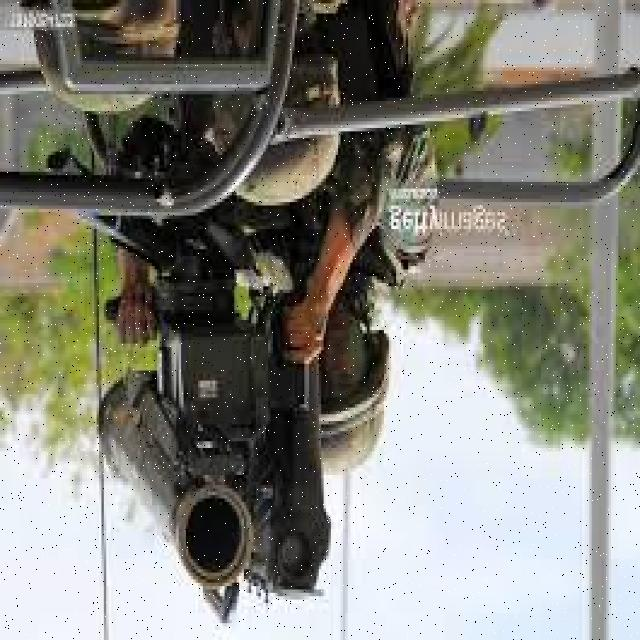bazooka: (93, 284, 331, 633)
